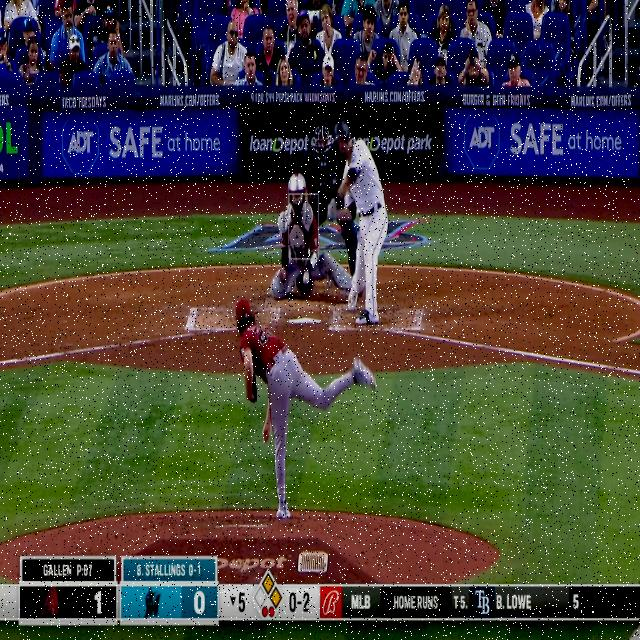baseball: (302, 270, 311, 287)
